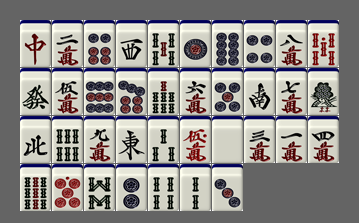0m: (180, 116, 211, 163)
0p: (52, 164, 83, 211)
0s: (308, 20, 339, 67)
1m: (276, 116, 307, 163)
1p: (180, 20, 211, 67)
1s: (308, 68, 339, 115)
1z: (116, 116, 147, 163)
2m: (52, 20, 83, 67)
2p: (116, 164, 147, 211)
2s: (180, 164, 211, 211)
2z: (244, 68, 275, 115)
3m: (244, 116, 275, 163)
3p: (212, 164, 243, 211)
3s: (148, 116, 179, 163)
3z: (116, 20, 147, 67)
4m: (308, 116, 339, 163)
4p: (244, 20, 275, 67)
4s: (148, 164, 179, 211)
4z: (20, 116, 51, 163)
5m: (52, 68, 83, 115)
5p: (212, 68, 243, 115)
5s: (148, 20, 179, 67)
5z: (212, 116, 243, 163)
6m: (180, 68, 211, 115)
6p: (84, 20, 115, 67)
6s: (52, 116, 83, 163)
6z: (20, 68, 51, 115)
7m: (276, 68, 307, 115)
7p: (116, 68, 147, 115)
7s: (148, 68, 179, 115)
7z: (20, 20, 51, 67)
8m: (276, 20, 307, 67)
8p: (212, 20, 243, 67)
8s: (84, 164, 115, 211)
9m: (84, 116, 115, 163)
9p: (84, 68, 115, 115)
9s: (20, 164, 51, 211)
